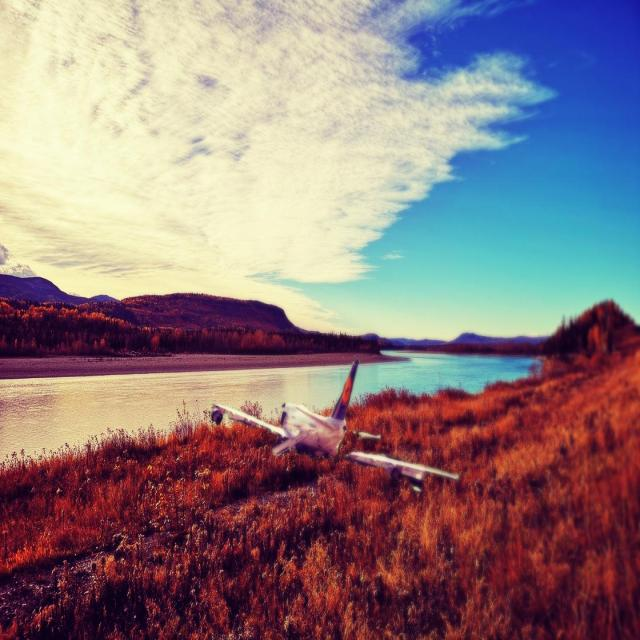airplane: (210, 358, 460, 493)
